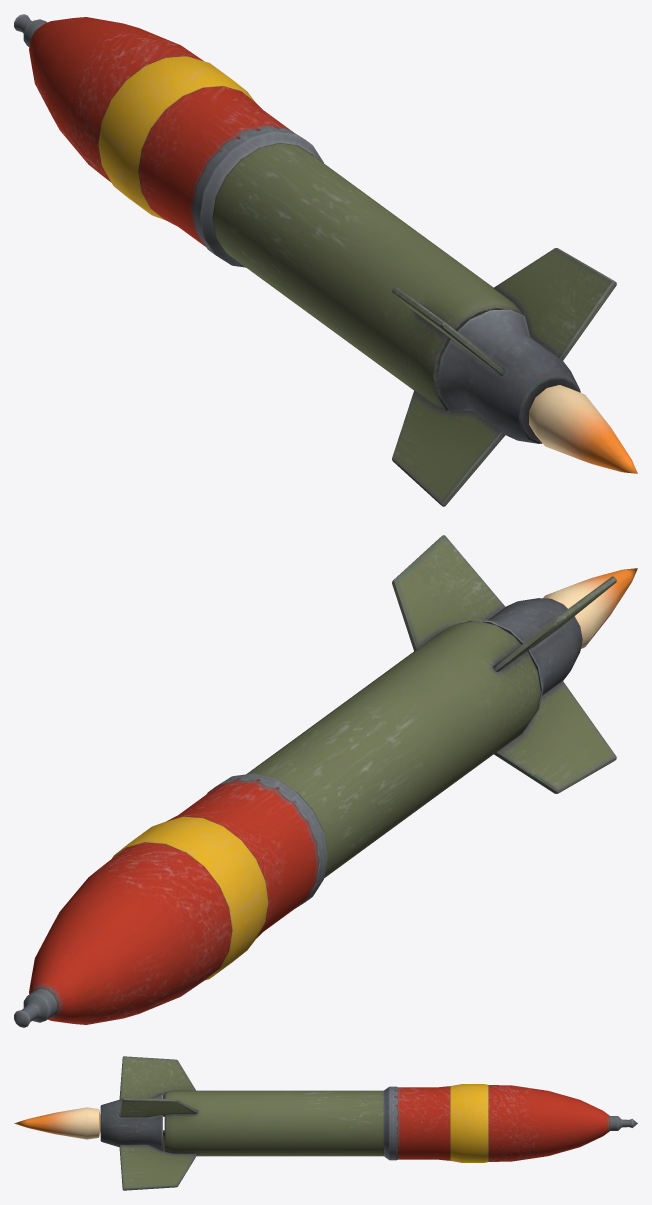
The model's file is rocket.glb.
3 renders of one model, top to bottom at view 1: azimuth 30°, elevation 25°; view 2: azimuth 150°, elevation 25°; view 3: azimuth 270°, elevation 25°, orthographic. The views are drawn at different scales.
Parts seen in each view (by area): view 1: rocket; view 2: rocket; view 3: rocket.
Part boxes in pixels (bbox=[...]): rocket: bbox=[14, 14, 637, 506]; rocket: bbox=[14, 535, 637, 1027]; rocket: bbox=[14, 1056, 637, 1190].
Bounding box in the file's own units: 0.1116 × 0.1116 × 0.683.
Materials: 5 (5 with a texture image).
